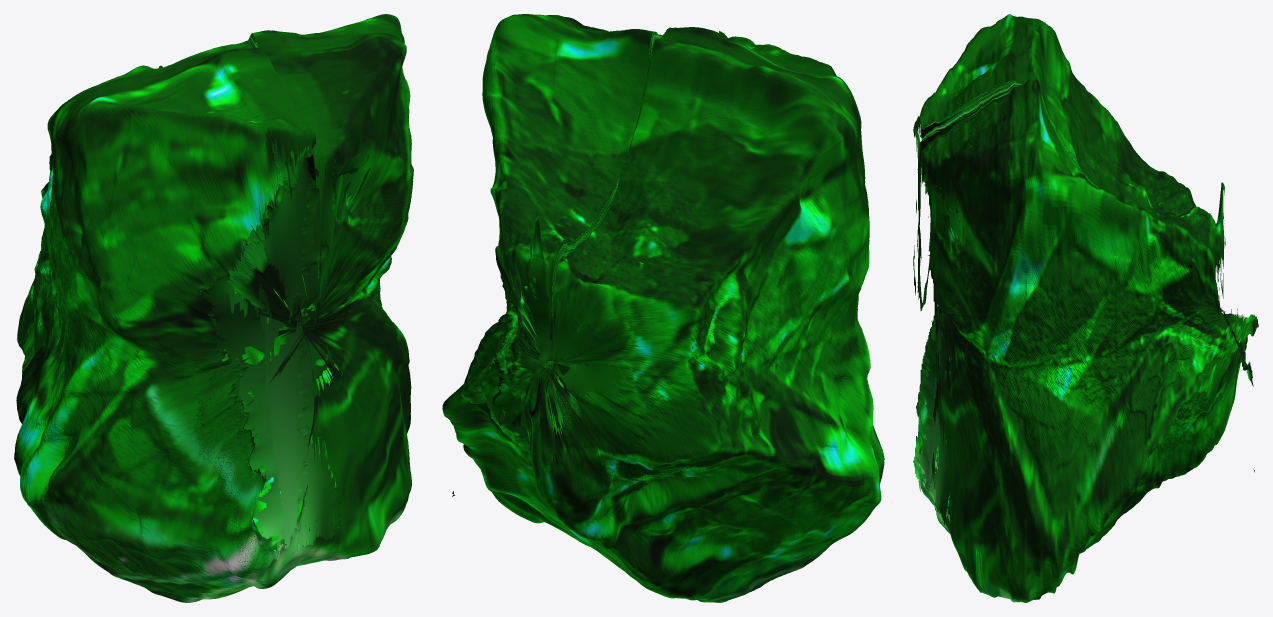
Rendered from guess_mesh.glb.
3 renders of one model, left to right at view 1: azimuth 30°, elevation 25°; view 2: azimuth 150°, elevation 25°; view 3: azimuth 270°, elevation 25°, orthographic. The views are drawn at different scales.
Visible parts, largest first — view 1: ipn, fill; view 2: ipn, fill; view 3: ipn, fill.
Part boxes in pixels (x1=…): ipn: x1=14, y1=14, x2=413, y2=602; fill: x1=199, y1=136, x2=372, y2=553; ipn: x1=442, y1=14, x2=884, y2=602; fill: x1=510, y1=256, x2=624, y2=396; ipn: x1=913, y1=14, x2=1258, y2=602; fill: x1=915, y1=125, x2=1225, y2=524.
Bounding box in the file's own units: 1.29 × 1.75 × 1.08.
Materials: 2 (1 with a texture image).
